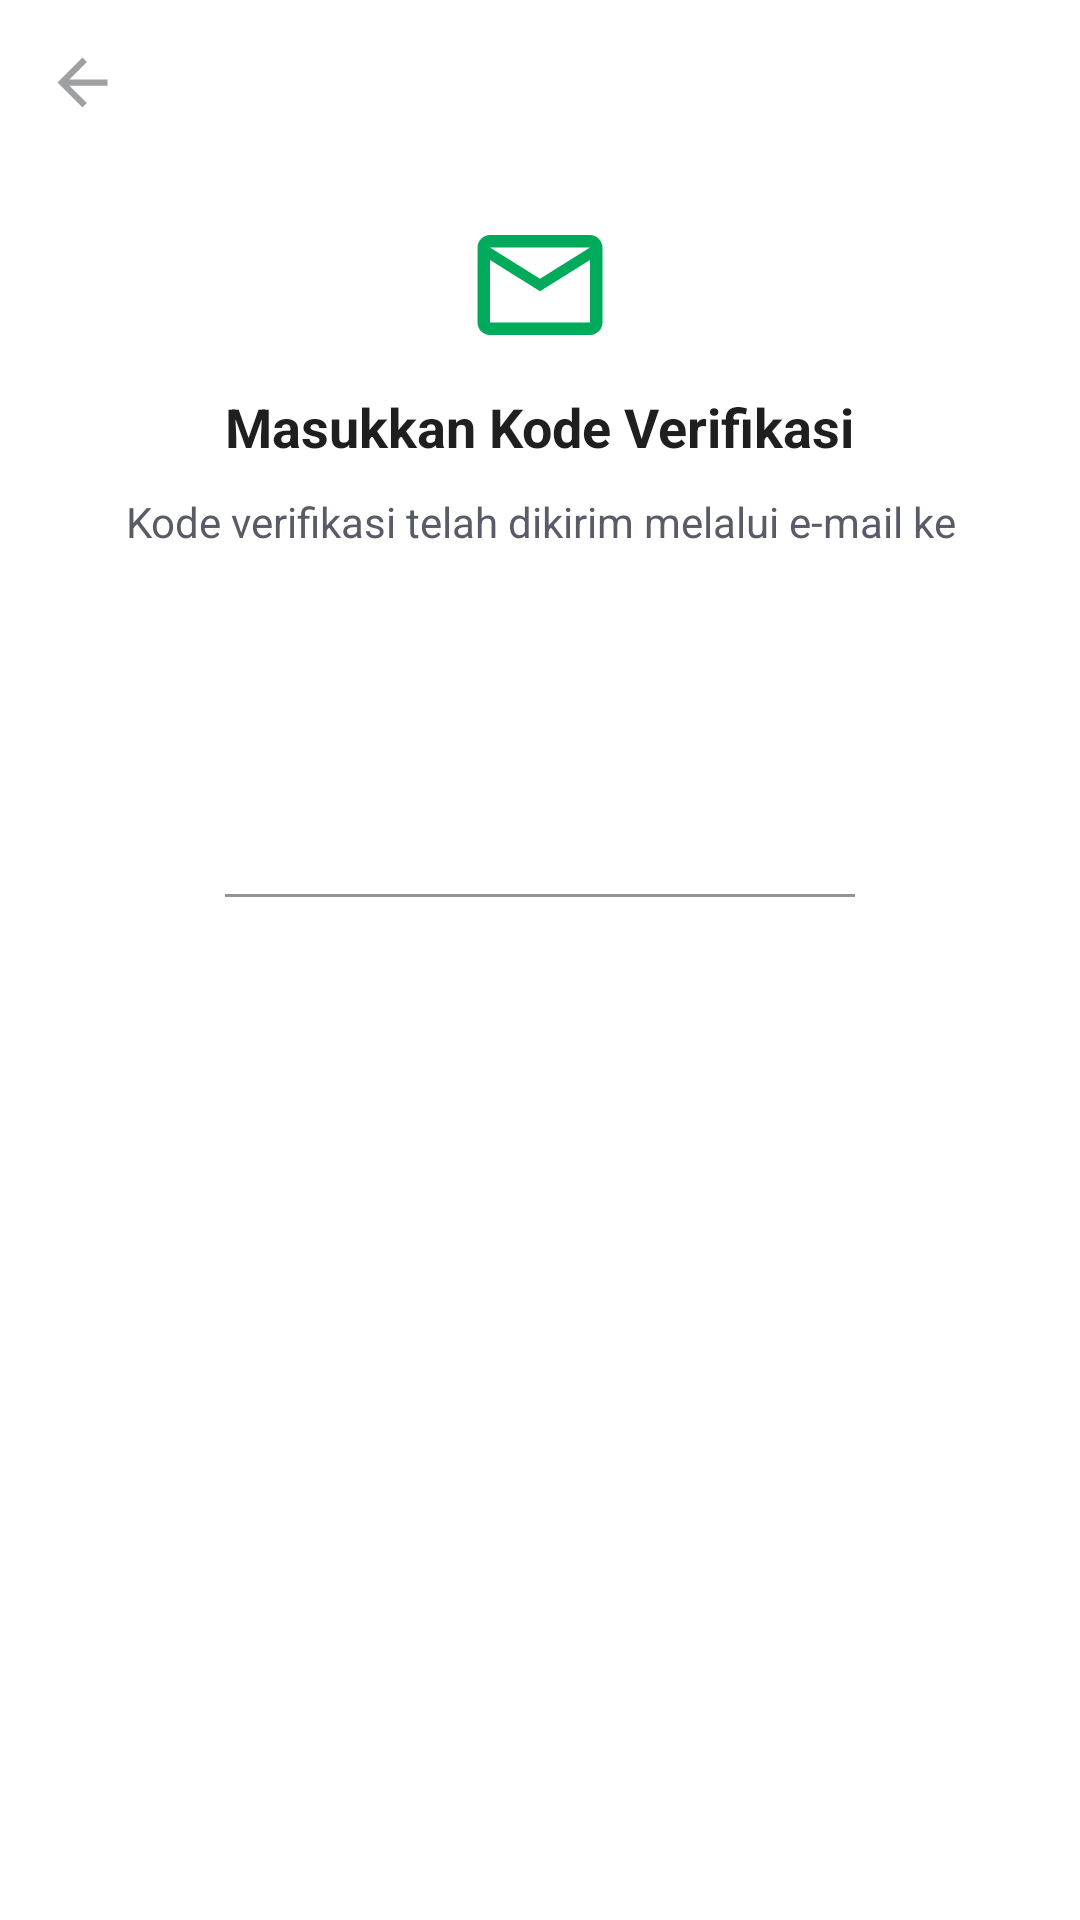

Icons on this 1080×1920 Android screen, each with the point to tap as (x,y):
back: (83,82)
